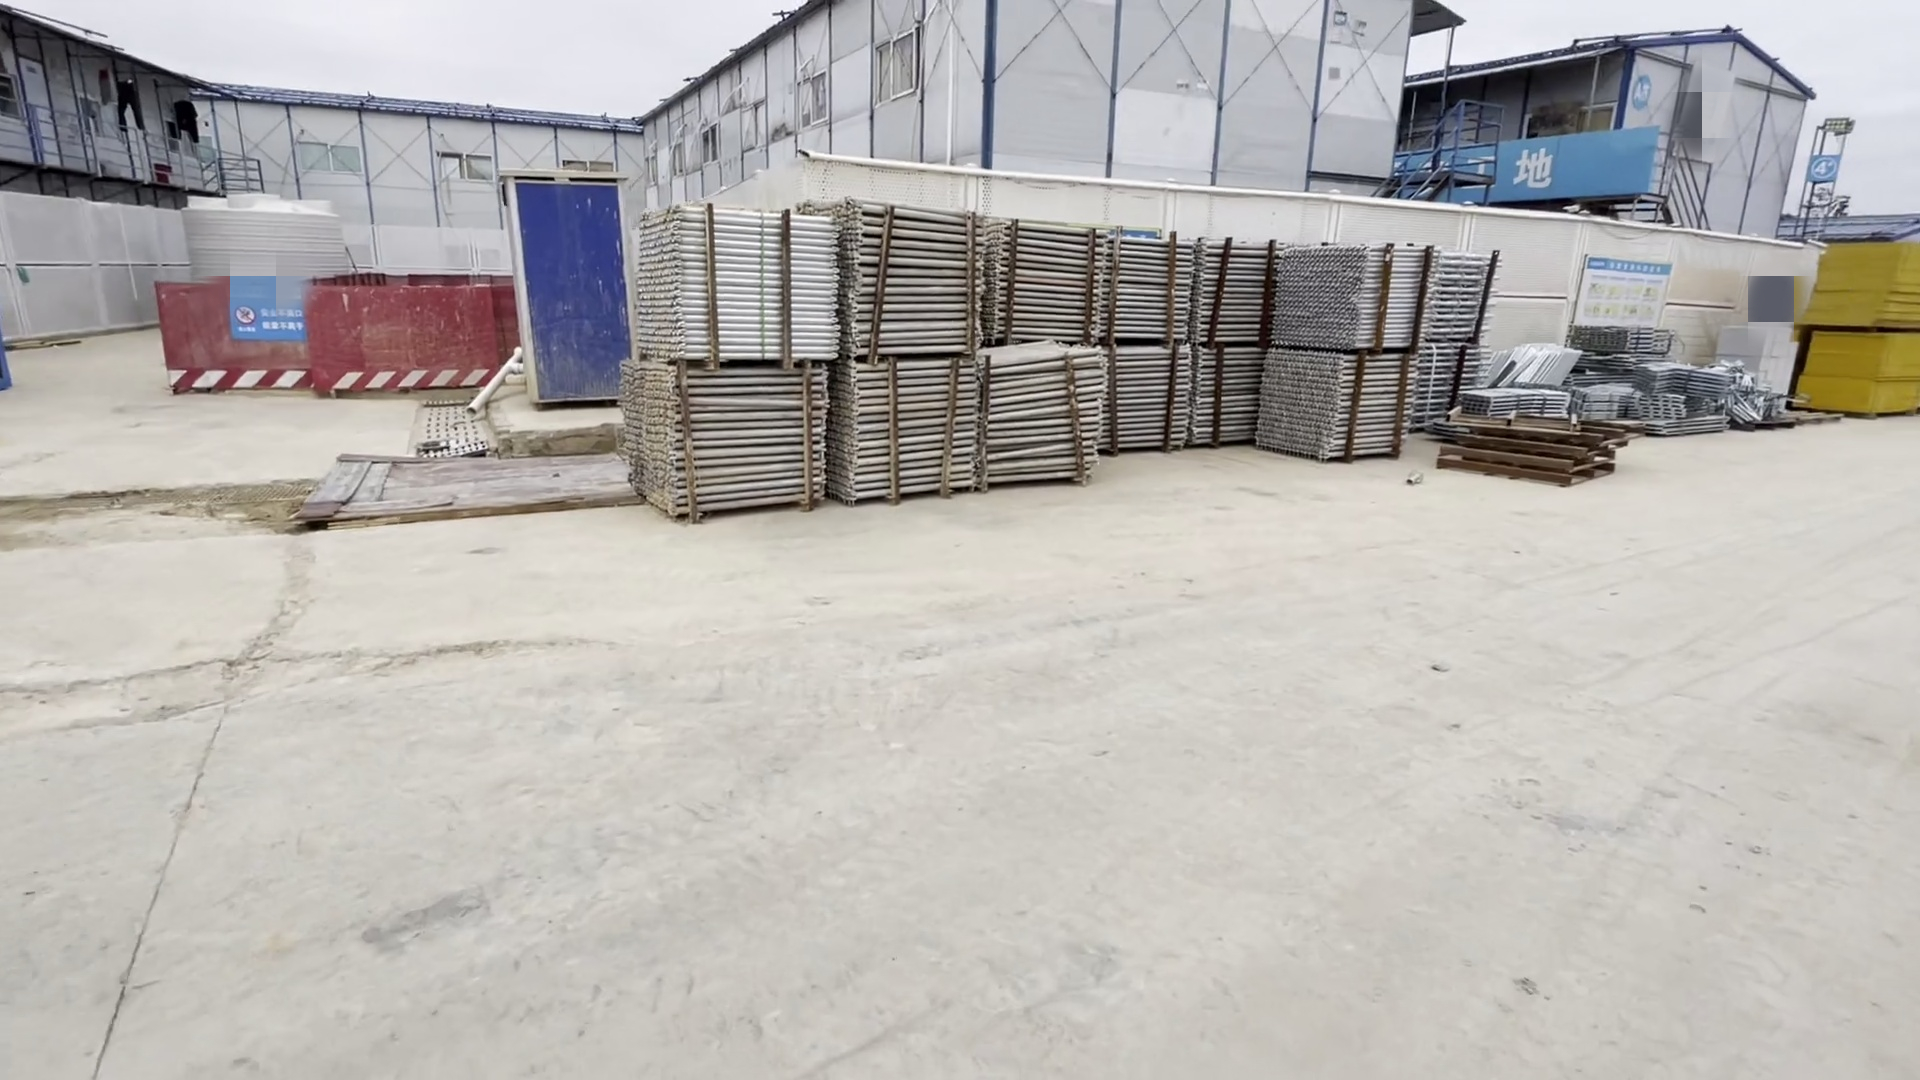board: (1807, 237, 1920, 423)
fence: (179, 281, 506, 388)
scaffold: (644, 218, 1495, 542), (1493, 318, 1775, 468)
